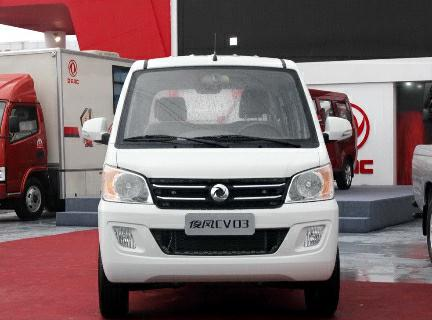东风-俊风CV03: (93, 50, 350, 320)
